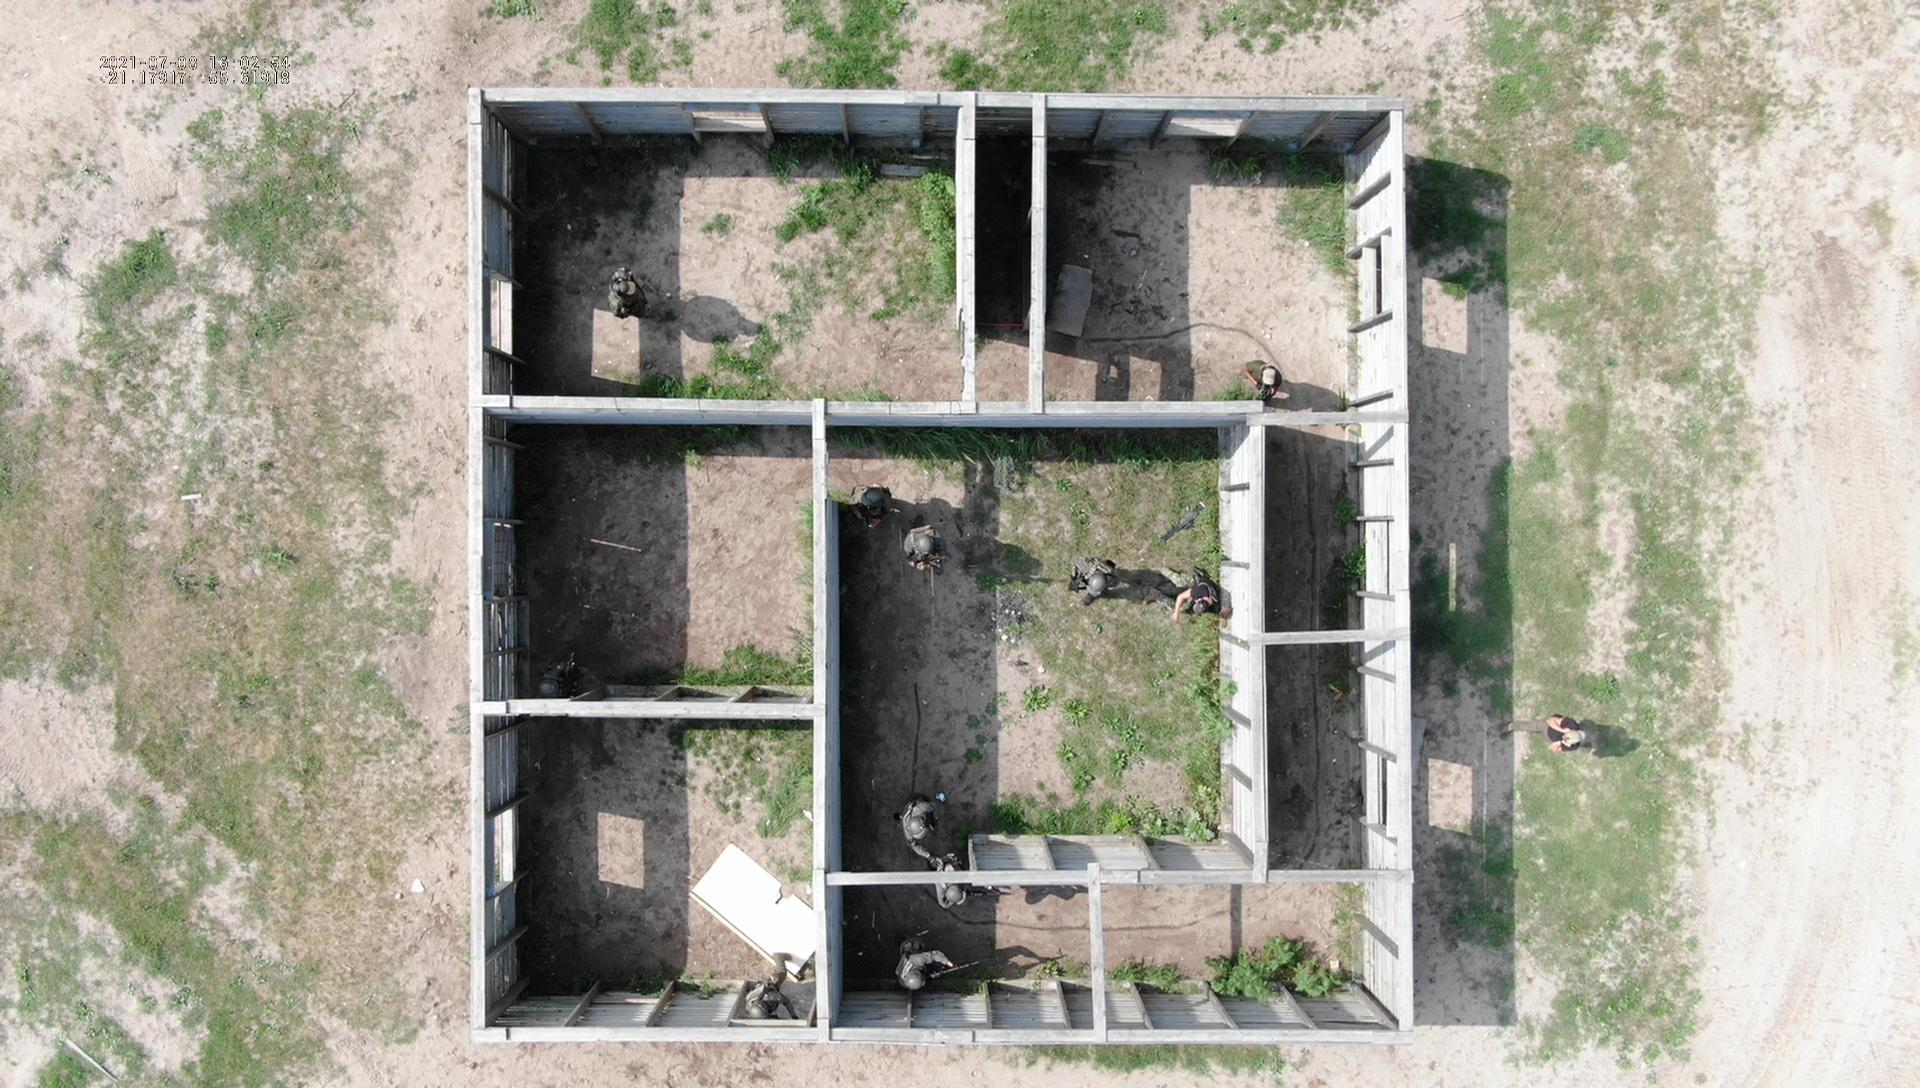Soldier: (729, 946, 804, 1029), (891, 930, 1000, 986), (887, 781, 956, 866), (1151, 557, 1224, 636), (1058, 546, 1131, 617), (599, 264, 669, 335), (895, 516, 964, 580), (844, 464, 899, 533), (935, 877, 1013, 921), (1240, 353, 1294, 406)
